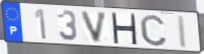1: (34, 8, 48, 42)
3: (56, 9, 79, 42)
C: (139, 13, 169, 47)
H: (110, 11, 139, 46)
I: (176, 14, 189, 49)
V: (79, 10, 110, 44)
